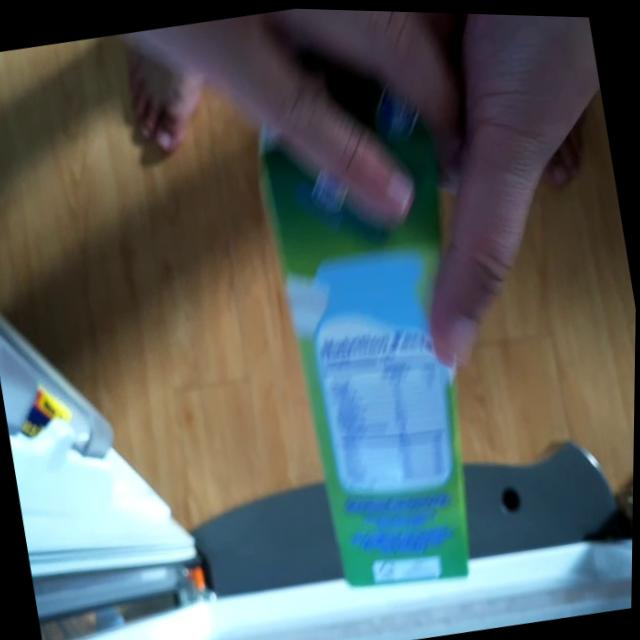milk: (232, 21, 511, 598)
